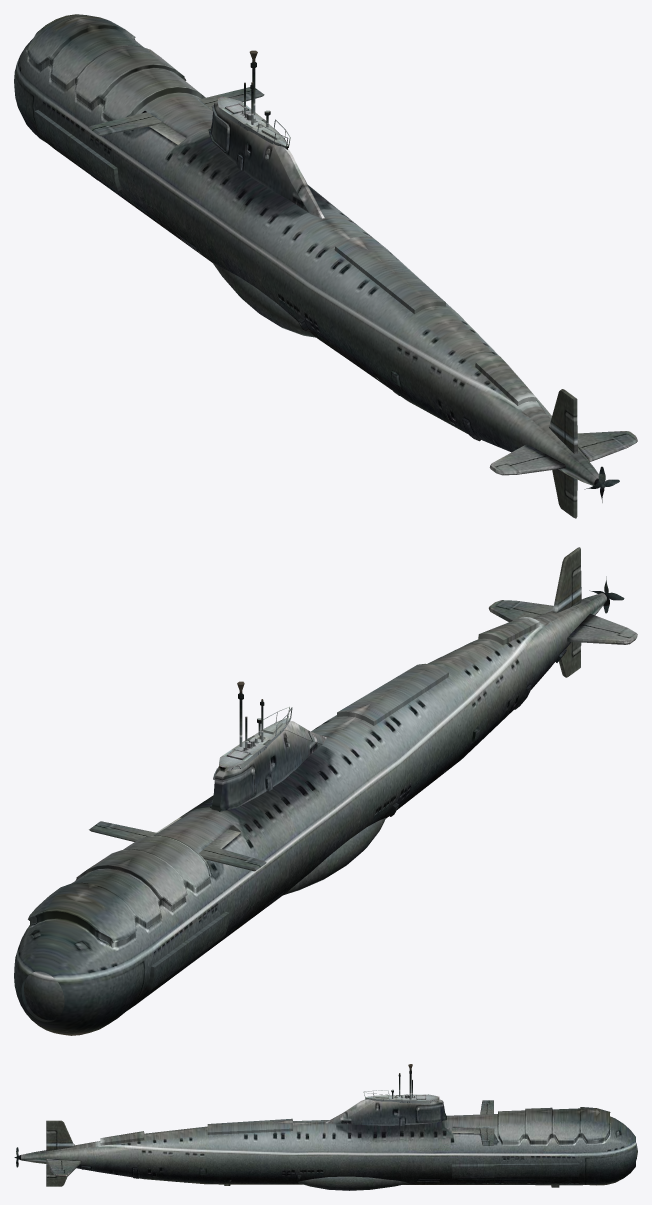
File: submarine.glb
3 renders of one model, top to bottom at view 1: azimuth 30°, elevation 25°; view 2: azimuth 150°, elevation 25°; view 3: azimuth 270°, elevation 25°, orthographic. The views are drawn at different scales.
Parts seen in each view (by area): view 1: Cylinder_16, Cylinder.001_15, Plane_12, Plane.003_9, Cylinder.002_14, Plane.006_6, Plane.001_11, Plane.002_10, Plane.004_8; view 2: Cylinder_16, Cylinder.001_15, Plane_12, Plane.003_9, Cylinder.002_14, Plane.006_6, Plane.001_11, Plane.004_8, Plane.005_7; view 3: Cylinder_16, Cylinder.001_15, Plane_12, Cylinder.014_13, Plane.001_11, Plane.006_6, Plane.003_9, Plane.002_10, Plane.005_7.
Part boxes in pixels (left/top/right/bottom): Cylinder_16: left=14, top=39, right=598, bottom=485; Cylinder.001_15: left=26, top=14, right=205, bottom=121; Plane_12: left=208, top=102, right=324, bottom=218; Plane.003_9: left=489, top=431, right=637, bottom=475; Cylinder.002_14: left=213, top=263, right=315, bottom=337; Plane.006_6: left=217, top=82, right=288, bottom=149; Plane.001_11: left=549, top=389, right=577, bottom=453; Plane.002_10: left=552, top=443, right=577, bottom=518; Plane.004_8: left=88, top=112, right=162, bottom=136; Cylinder_16: left=14, top=593, right=606, bottom=1035; Cylinder.001_15: left=28, top=835, right=210, bottom=947; Plane_12: left=210, top=721, right=326, bottom=811; Plane.003_9: left=488, top=600, right=637, bottom=644; Cylinder.002_14: left=283, top=818, right=385, bottom=895; Plane.006_6: left=219, top=716, right=290, bottom=771; Plane.001_11: left=552, top=547, right=581, bottom=613; Plane.004_8: left=198, top=845, right=266, bottom=871; Plane.005_7: left=89, top=821, right=157, bottom=841; Cylinder_16: left=21, top=1114, right=637, bottom=1187; Cylinder.001_15: left=498, top=1107, right=610, bottom=1144; Plane_12: left=325, top=1099, right=446, bottom=1125; Cylinder.014_13: left=298, top=1176, right=408, bottom=1190; Plane.001_11: left=46, top=1120, right=74, bottom=1151; Plane.006_6: left=365, top=1079, right=439, bottom=1103; Plane.003_9: left=45, top=1143, right=81, bottom=1176; Plane.002_10: left=46, top=1164, right=67, bottom=1186; Plane.005_7: left=479, top=1128, right=493, bottom=1145.
Size of the model in its own units: 0.2346 by 0.3016 by 1.38.
Materials: 1 (1 with a texture image).
